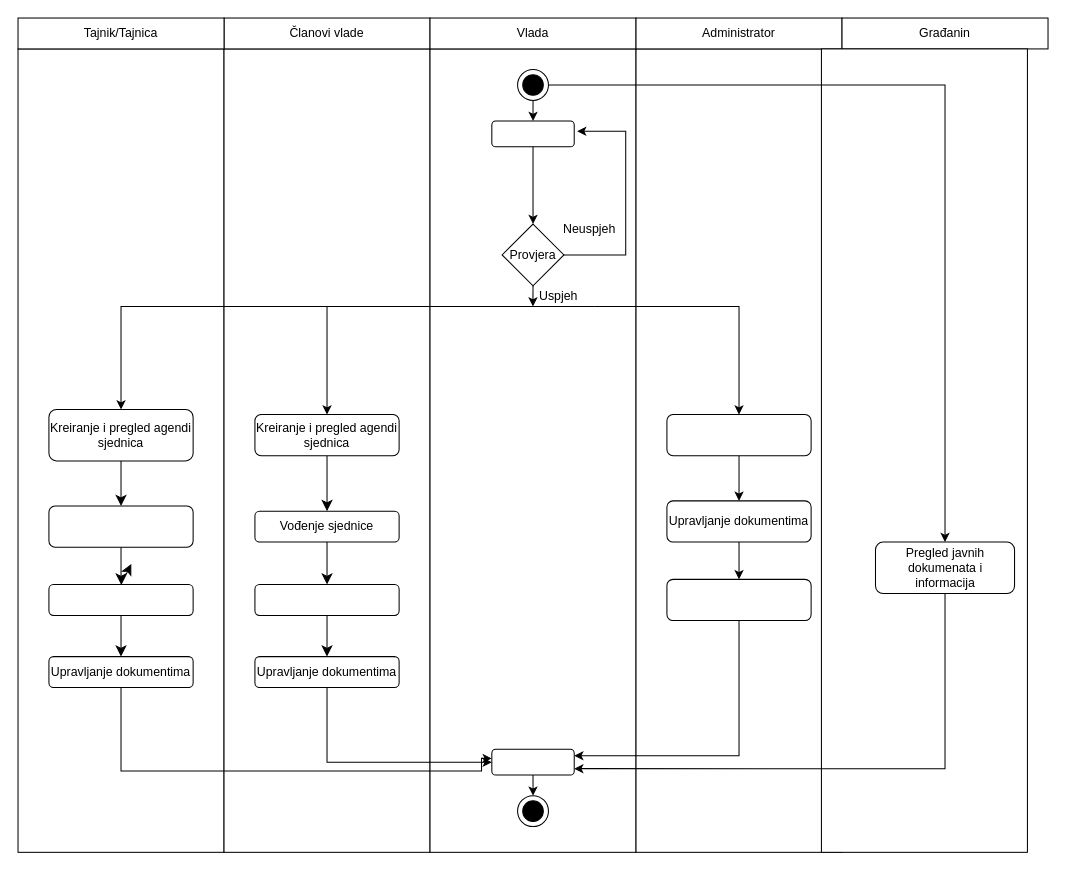
The diagram is 1066 pixels wide and 870 high, and some of its shapes have lost their labels. The centre of each missing label's shape, as x and y in pixels:
Arhiviranje zapisnika: point 120,599
Odjava: point 532,761
Pregled dokumenata: point 326,599
Prijava: point 532,133
Upravljanje korisničkim profilima: point 738,435
Upravljanje sjednicama: point 738,599
Vođenje zapisnika sjednice: point 120,526
